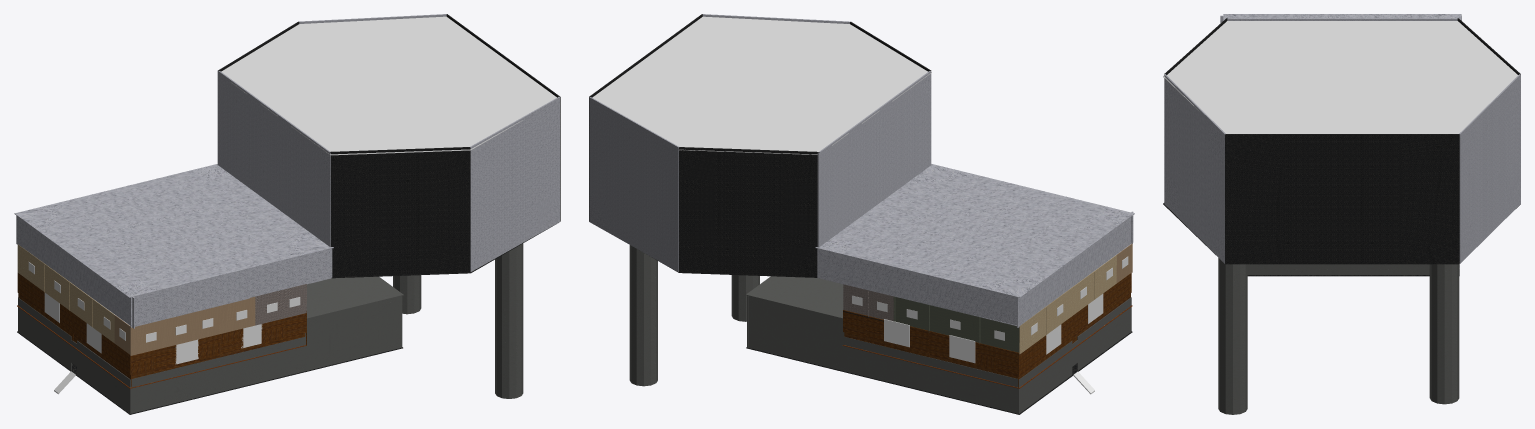
Rendered from SkyHouse.fbx.
The picture shows the model from 3 angles, left to right: view 1: azimuth 30°, elevation 25°; view 2: azimuth 150°, elevation 25°; view 3: azimuth 270°, elevation 25°; orthographic projection. The views are drawn at different scales.
Parts seen in each view (by area): view 1: coreRoomHead, roofTopHead, Cube.440, Cube.441, Cube.180, Cube.447, Cube.444, Cube.182, Cylinder.001, Cube.448, Cube.443, Cube.445 (+13 smaller); view 2: coreRoomHead, roofTopHead, Cube.076, Cube.077, Cube.012, Cube.446, Cube.444, Cube.183, Cylinder, Cube.448, Cube.443, Cube.445 (+15 smaller); view 3: coreRoomHead, Cube.442, Cube.077, Cube.441, Cylinder.001, Cylinder, Cube.186, roofTopHead, Cube.011.
Part boxes in pixels (x1,y1,x2,y2): coreRoomHead: (221, 16, 556, 155); roofTopHead: (14, 164, 333, 297); Cube.440: (330, 147, 470, 277); Cube.441: (470, 97, 559, 271); Cube.180: (130, 336, 306, 413); Cube.447: (130, 248, 332, 327); Cube.444: (277, 114, 330, 246); Cube.182: (305, 296, 402, 370); Cylinder.001: (495, 243, 523, 398); Cube.448: (16, 215, 134, 328); Cube.443: (217, 70, 270, 185); Cube.445: (247, 92, 278, 208); coreRoomHead: (592, 16, 931, 154); roofTopHead: (815, 164, 1134, 297); Cube.076: (679, 147, 819, 277); Cube.077: (589, 97, 678, 272); Cube.012: (843, 336, 1019, 413); Cube.446: (817, 248, 1020, 325); Cube.444: (878, 71, 931, 202); Cube.183: (747, 295, 844, 370); Cylinder: (629, 245, 657, 386); Cube.448: (1017, 211, 1133, 327); Cube.443: (817, 114, 870, 247); Cube.445: (849, 108, 879, 224); coreRoomHead: (1163, 21, 1517, 133); Cube.442: (1225, 134, 1459, 264); Cube.077: (1459, 74, 1520, 263); Cube.441: (1164, 74, 1225, 263); Cylinder.001: (1218, 258, 1247, 414); Cylinder: (1429, 264, 1459, 404); Cube.186: (1247, 264, 1429, 274); roofTopHead: (1223, 14, 1461, 20); Cube.011: (1247, 264, 1459, 276).
Size of the model in its own units: 29.99 by 18.4 by 20.01.
10 materials, 9 textured.
